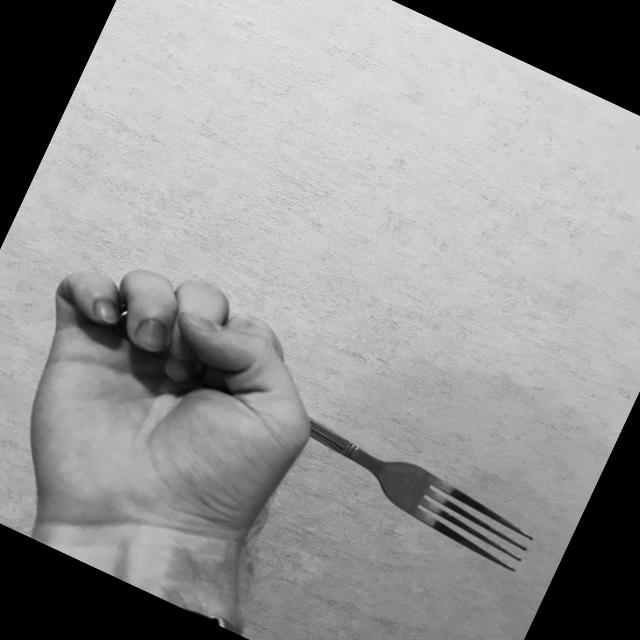fork: (22, 266, 555, 578)
